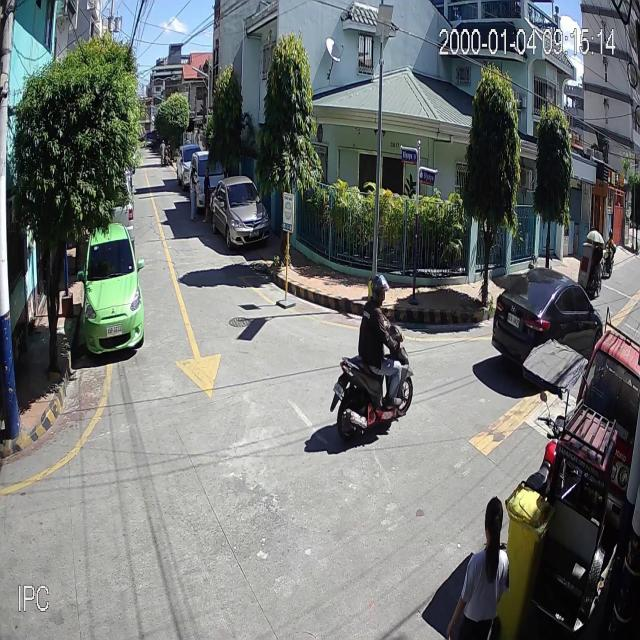standing: (188, 166, 201, 221), (202, 166, 213, 223)
walking: (445, 495, 511, 640), (160, 138, 167, 166)
